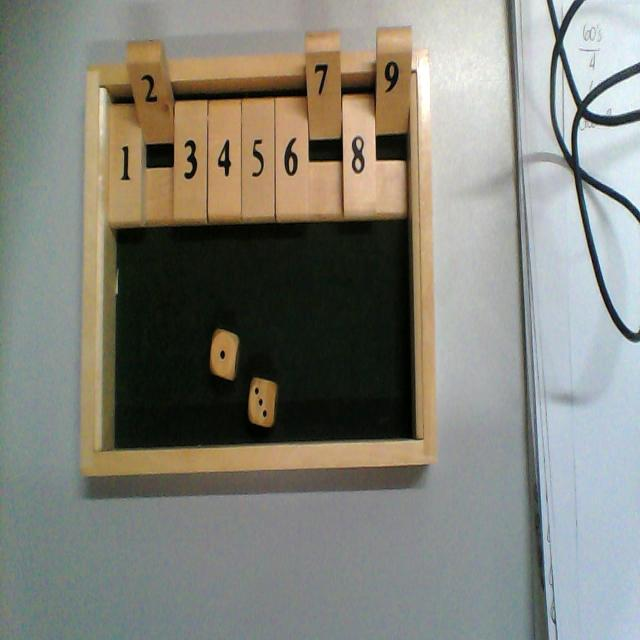1: (207, 318, 240, 390)
3: (246, 363, 283, 441)
O2: (126, 41, 176, 225)
O7: (307, 32, 342, 220)
O9: (376, 28, 414, 216)
